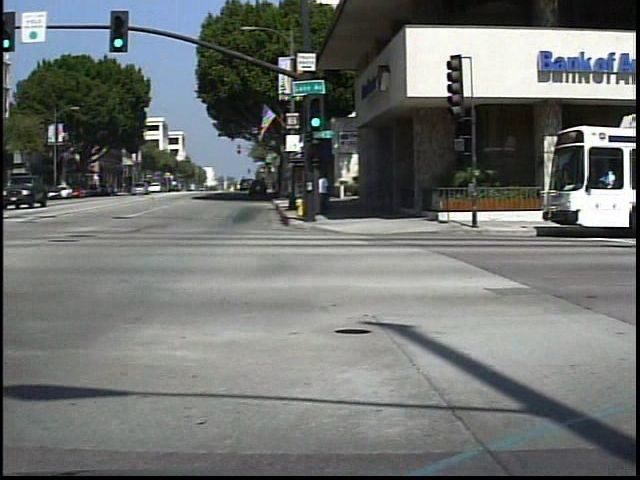person: (323, 168, 340, 218)
